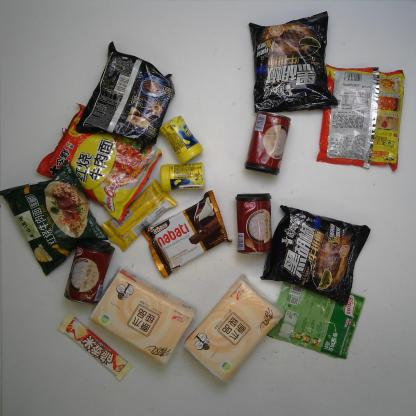Canned Food: (62, 238, 114, 306), (244, 110, 291, 174), (235, 191, 274, 255)
Chocolate: (99, 180, 179, 252), (56, 312, 133, 382)
Dessert: (139, 190, 233, 279)
Gum: (159, 112, 204, 162), (160, 162, 206, 192)
Instant Noodles: (38, 102, 163, 225), (0, 162, 108, 276), (260, 203, 371, 306), (74, 42, 176, 151), (316, 61, 406, 172), (247, 11, 340, 115)
Seasoner: (263, 271, 365, 360)
Tissue: (182, 273, 285, 384), (90, 267, 198, 367)
